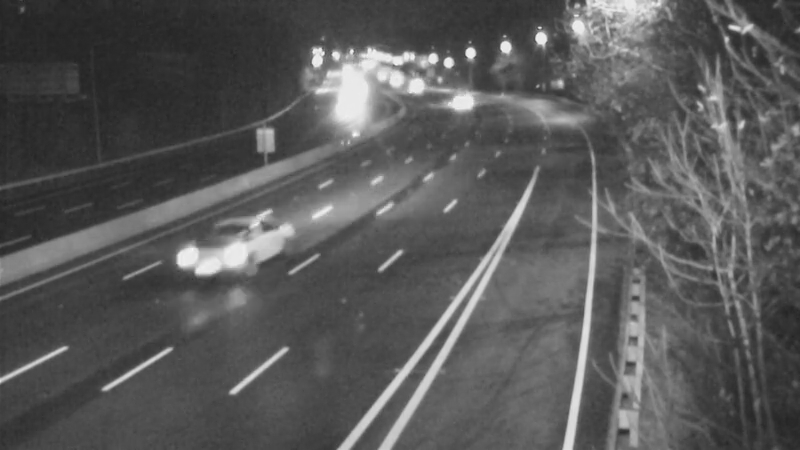vehicle: (186, 217, 266, 297), (353, 55, 403, 105), (369, 57, 419, 107), (389, 57, 439, 107), (396, 68, 446, 118), (436, 75, 486, 125), (324, 79, 374, 129)
